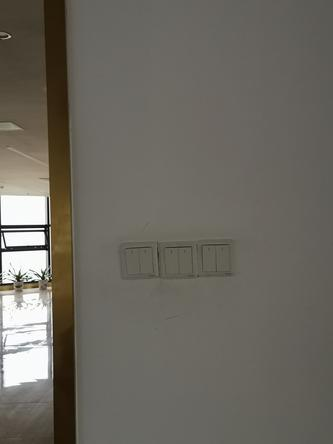switch: (212, 242, 234, 275), (161, 244, 182, 277), (199, 241, 219, 275), (137, 245, 158, 276), (176, 244, 196, 276), (123, 245, 141, 277)
